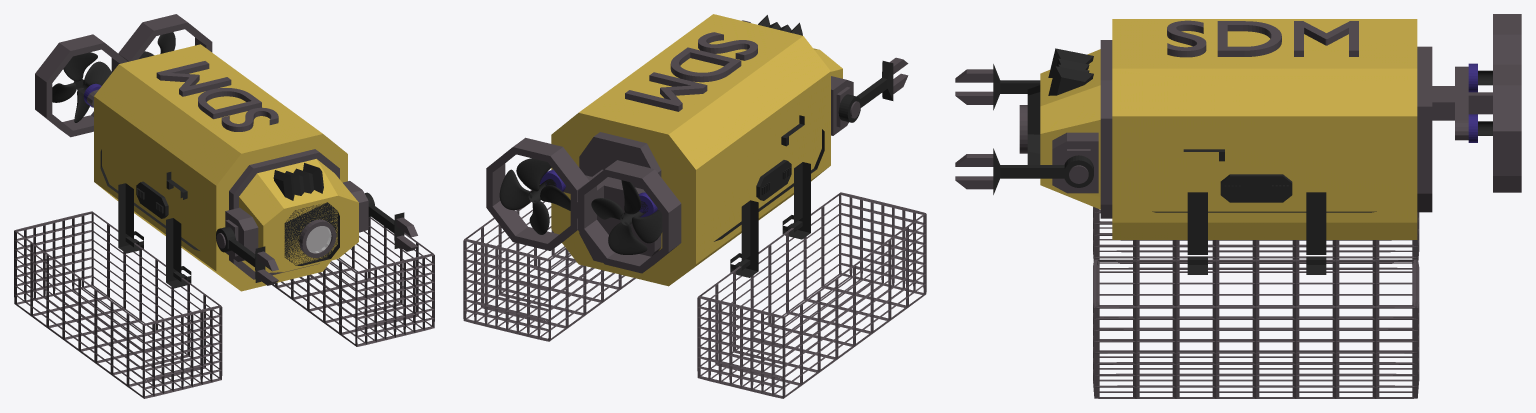
Rendered from collector.glb.
3 views of the same model, side by side, from view 1: azimuth 30°, elevation 25°; view 2: azimuth 150°, elevation 25°; view 3: azimuth 270°, elevation 25° (orthographic). The views are drawn at different scales.
Visible parts, largest first — view 1: main_body, camera_lens; view 2: main_body; view 3: main_body.
Part boxes in pixels (x1=…): main_body: x1=14, y1=14, x2=434, y2=398; camera_lens: x1=306, y1=226, x2=331, y2=253; main_body: x1=463, y1=14, x2=926, y2=398; main_body: x1=955, y1=14, x2=1521, y2=398.
Bounding box in the file's own units: 4.09 × 2.95 × 5.53.
2 materials, 2 textured.
